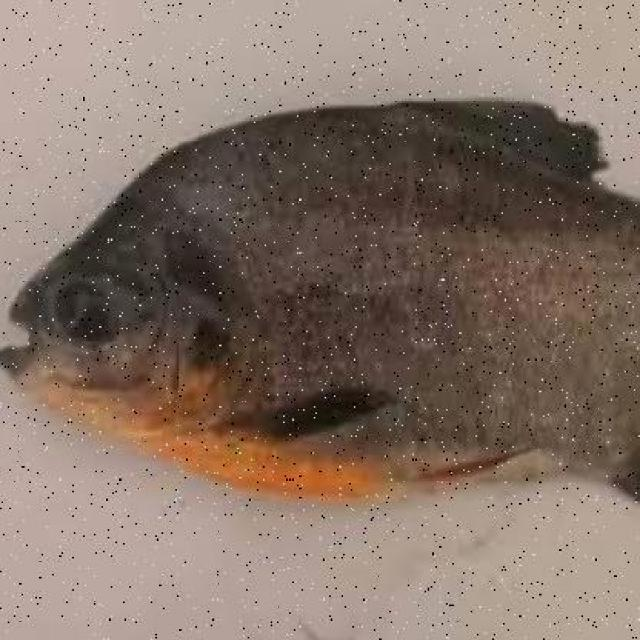ikan-pacu: (22, 91, 640, 500)
